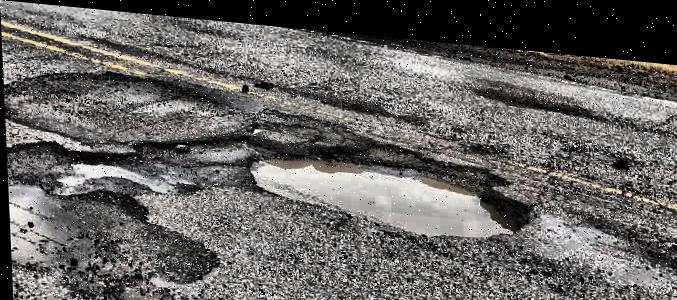pothole: (239, 120, 533, 236), (5, 132, 140, 203)
